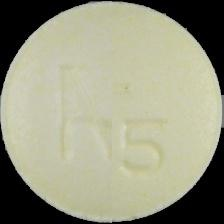55154-5053: (0, 0, 224, 224)
